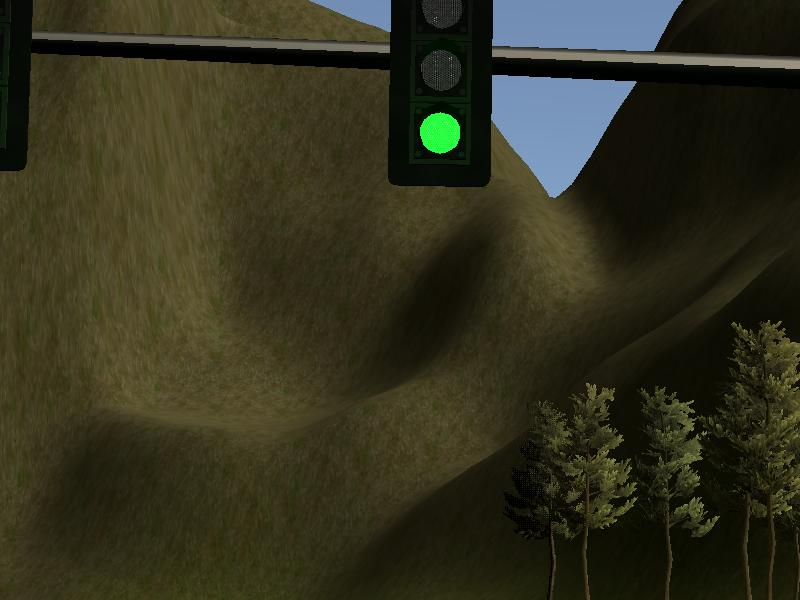not_red: (392, 2, 493, 186)
